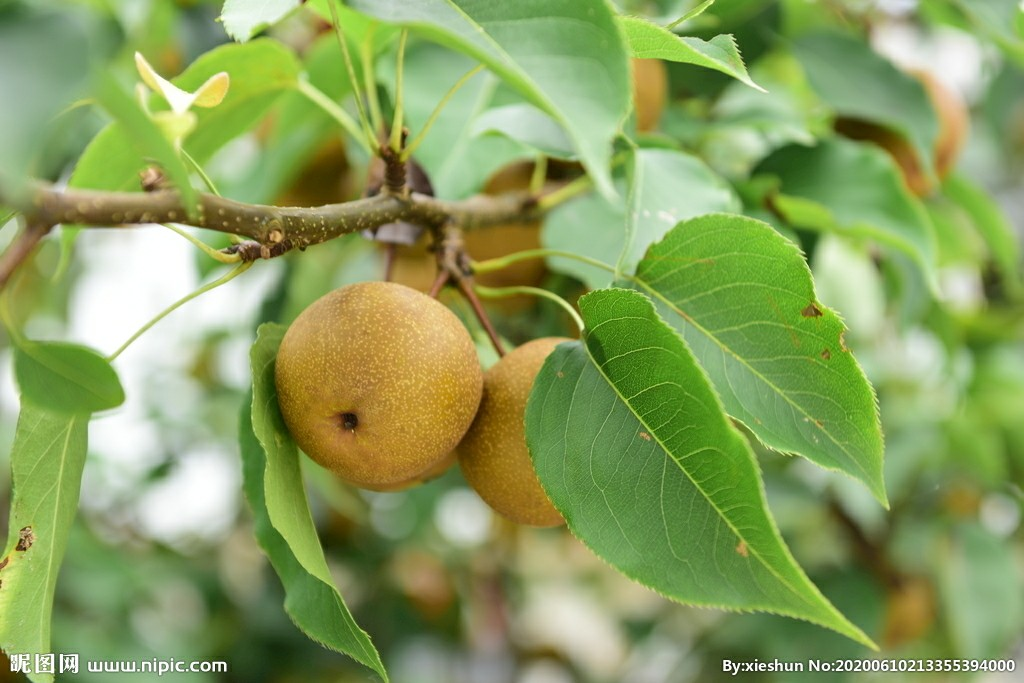pear: (277, 282, 483, 486), (463, 333, 605, 522)
